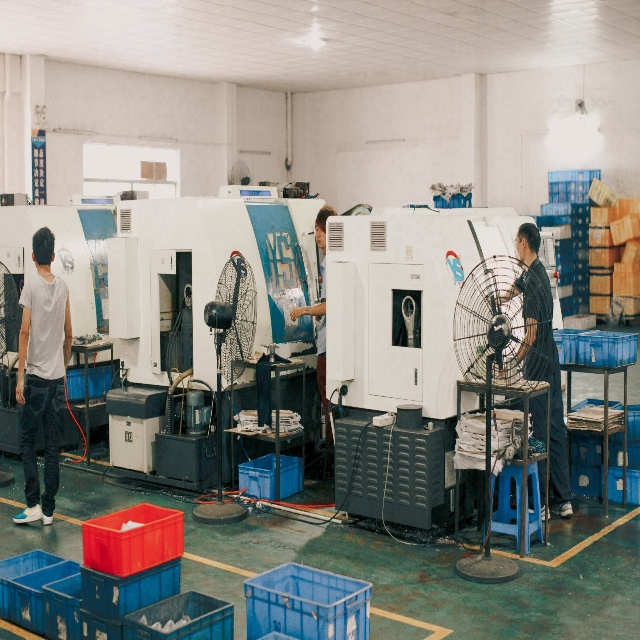Sin_guantes: (15, 377, 26, 406), (289, 305, 305, 322)
